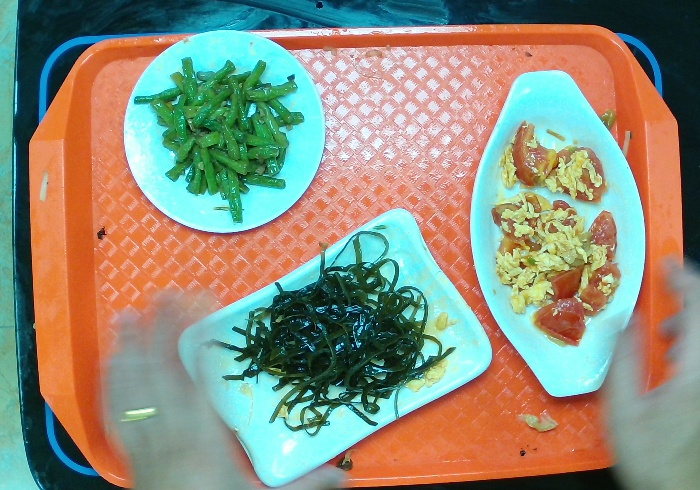RJxy-Si_Fang_Ao_Bian_Wan: (178, 207, 494, 486)
RJxy-Xiao_Yuan_Die: (123, 29, 325, 231)
RJxy-Yu_Pan: (467, 68, 650, 401)
